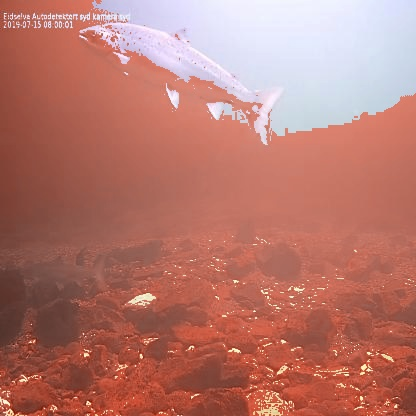salmon: (78, 17, 286, 149), (17, 253, 110, 293)
